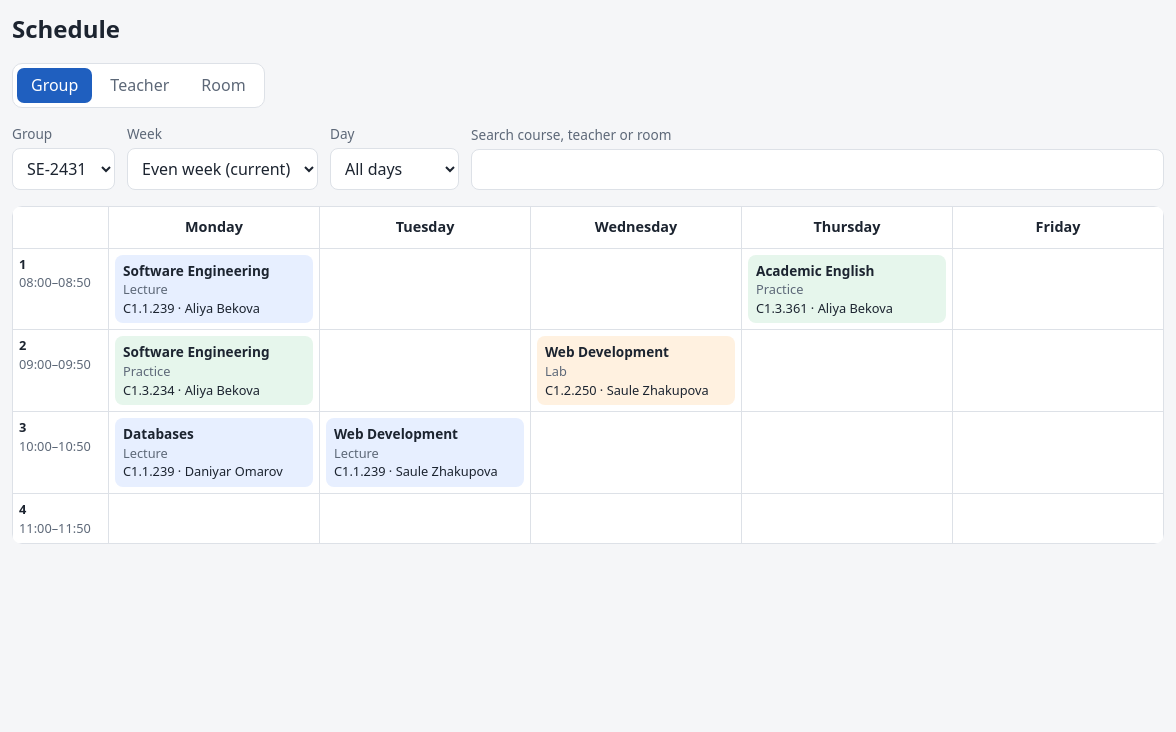
Test: SchedulePage › shows the selected group schedule and filters it by day
Expected: the text "Software Engineering" next to "08:00–08:50" is shown, [123,261,270,280]
Expected: the text "Web Development" in the row of "09:00–09:50" is shown, [545,342,669,361]
Select "Wednesday" in the dropdown labelled "Day" at (394, 169), box [330,148,459,190]
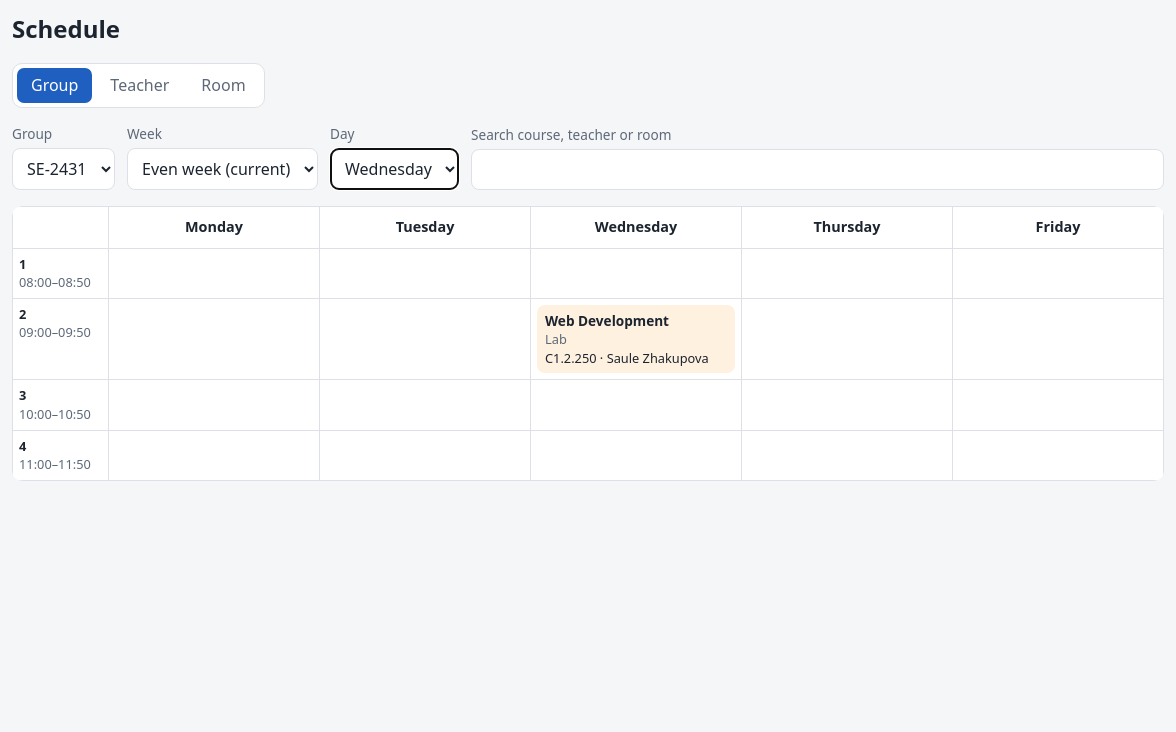
Expected: the text "Web Development" is shown, [545,311,669,330]
Result: the text "Software Engineering" is gone
